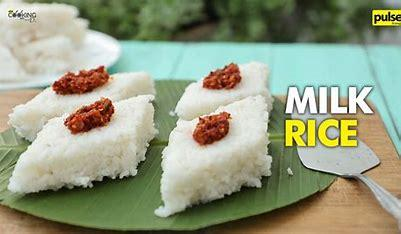Kiribath: (26, 54, 274, 203)
Lunu sambol: (66, 99, 115, 132), (56, 65, 109, 94), (200, 61, 246, 92), (197, 111, 229, 144)
